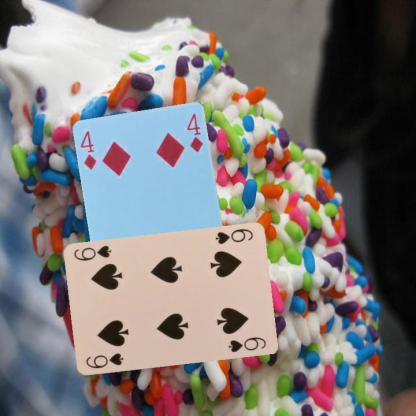4d: (78, 128, 98, 172)
6s: (83, 350, 125, 370), (213, 226, 254, 245)
